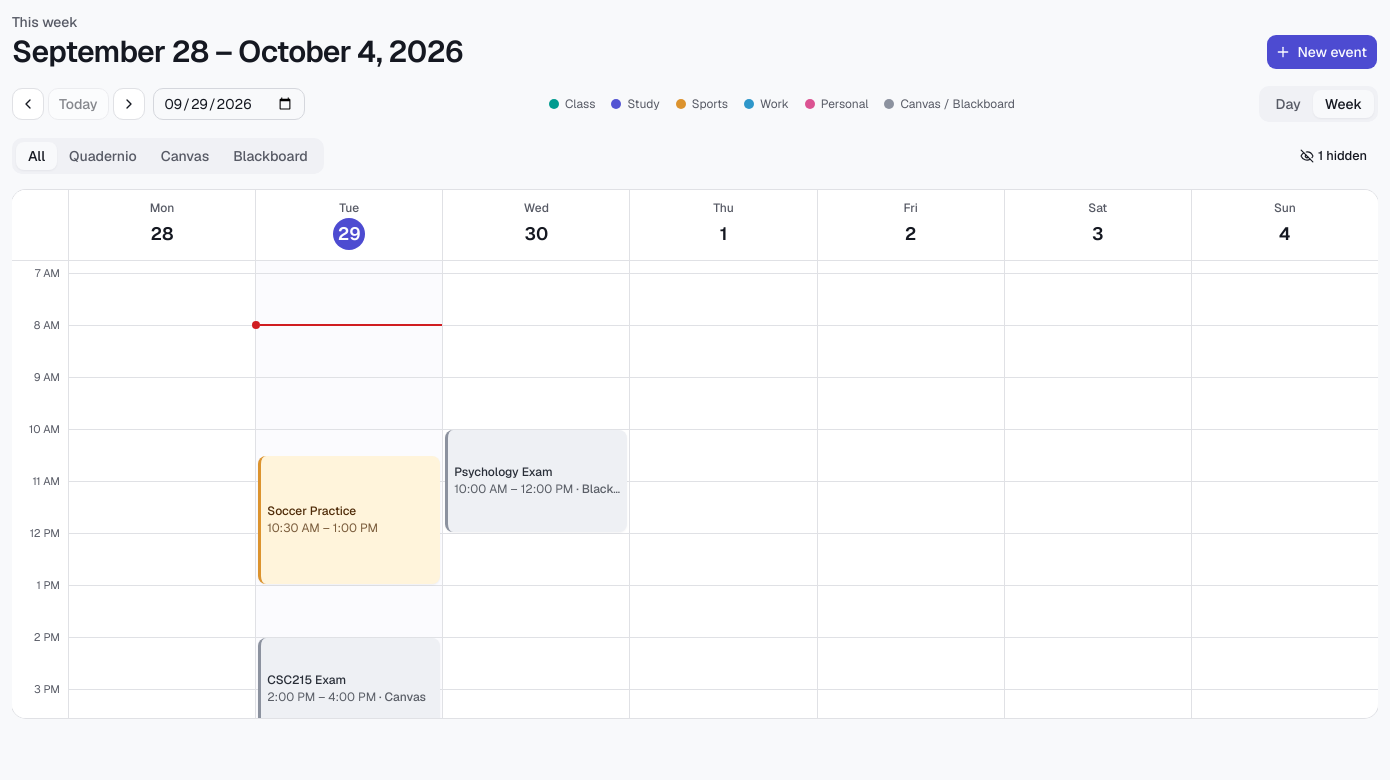
Calendar with external events › filters by source (default All)
The image size is (1390, 780).
(page scrolled)
Click the button "Canvas" at (185, 156), box [149,142,221,170]
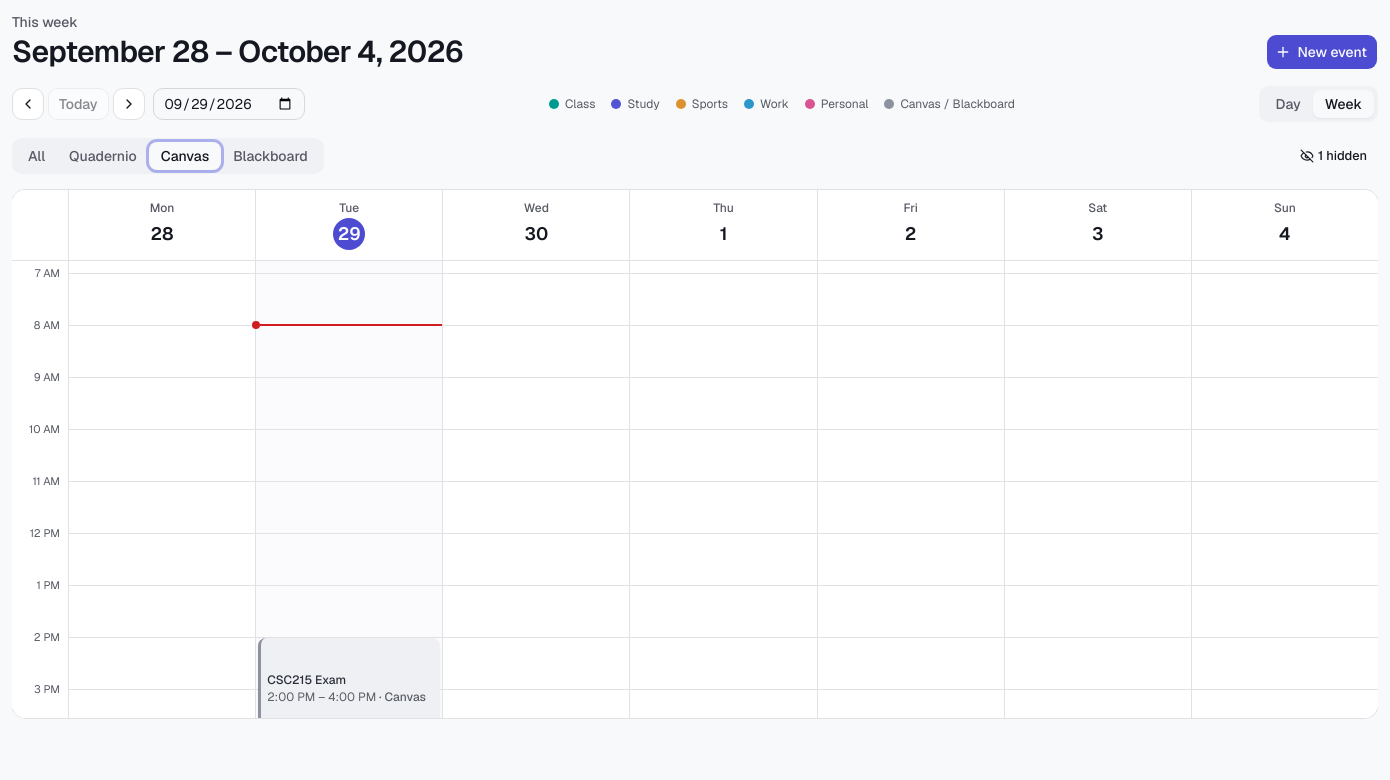
Expected: the button "CSC215 Exam 2:00 PM – 4:00 PM · Canvas" is shown, [258,638,440,718]
Now the button "Soccer Practice" is gone
Now the button "Psychology Exam" is gone
Click the button "Quadernio" at (103, 156), box [57,142,149,170]
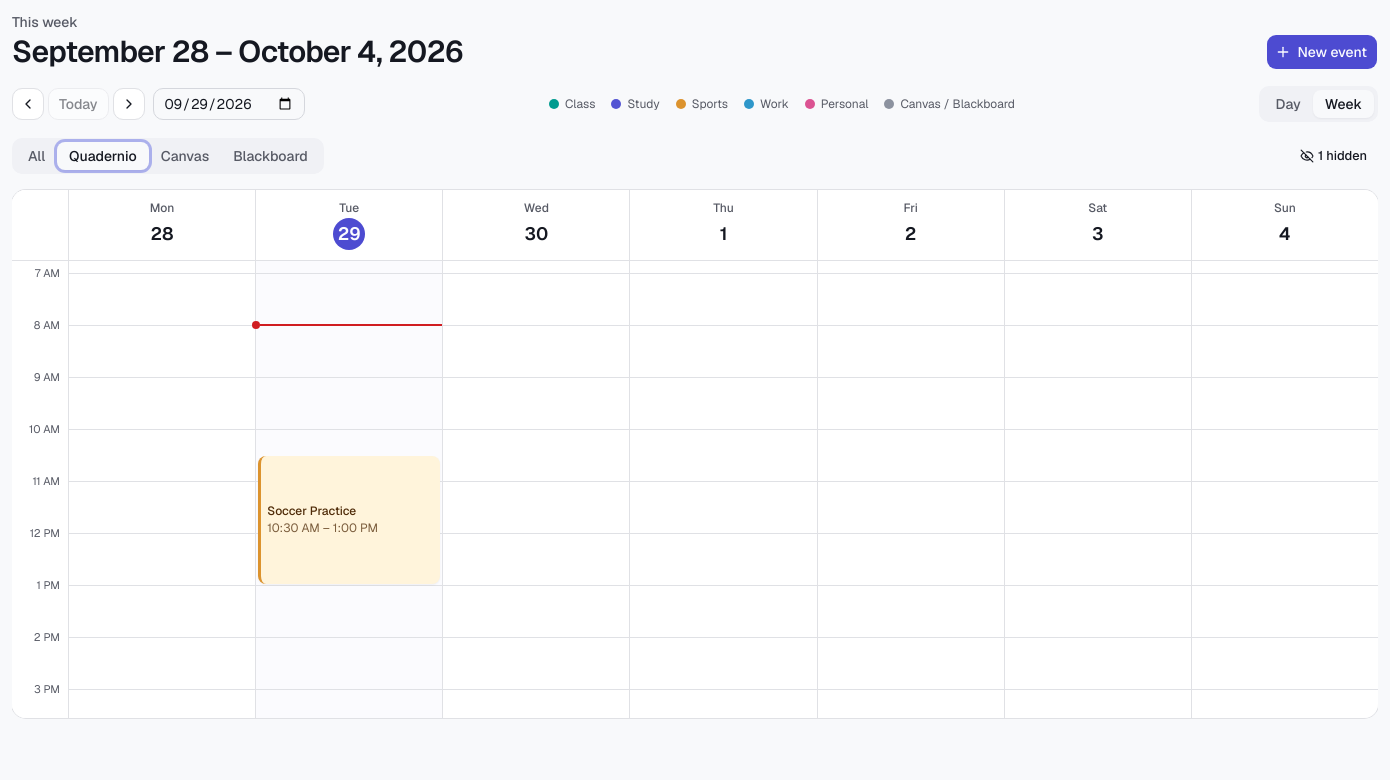
Now the button "Soccer Practice 10:30 AM – 1:00 PM" is shown, box [258,456,440,584]
Now the button "CSC215 Exam" is gone
Click the button "Blackboard" at (271, 156), box [221,142,320,170]
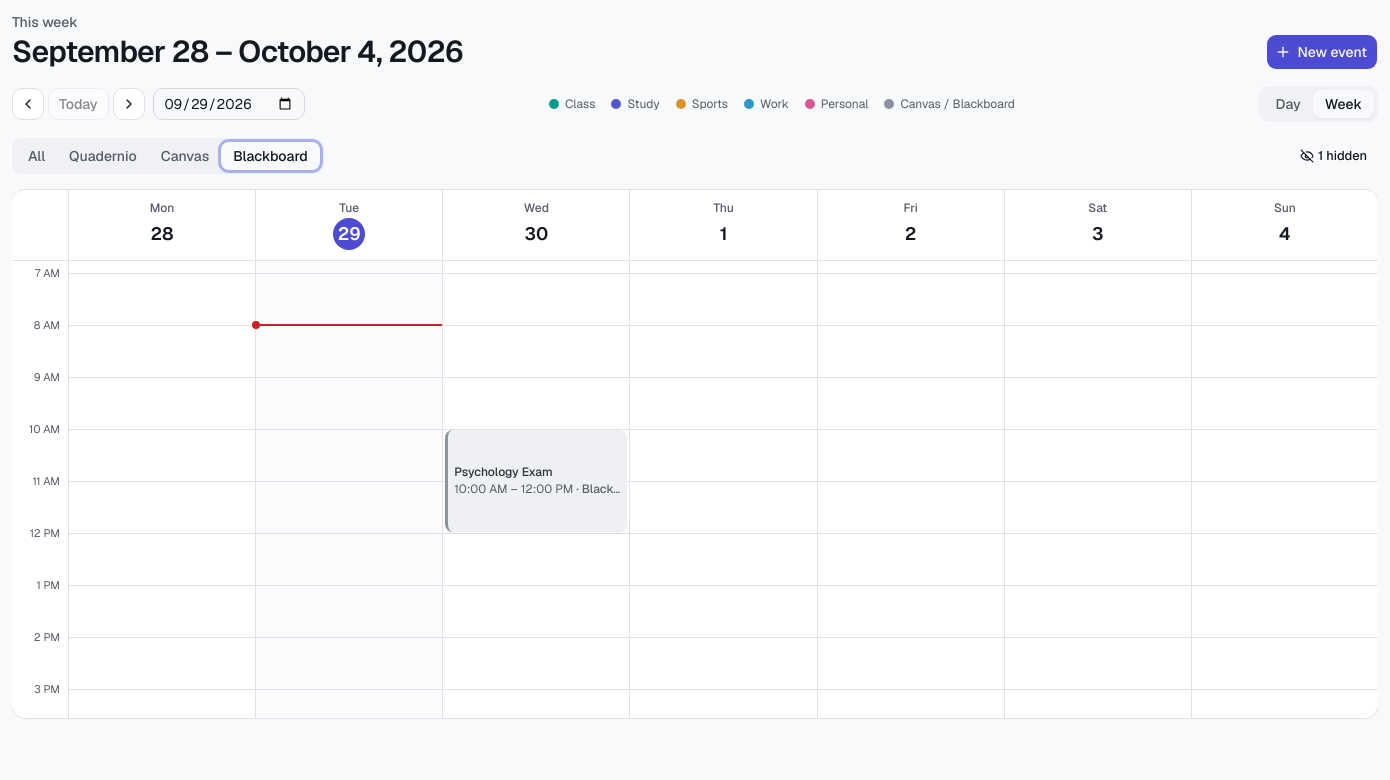
Now the button "Psychology Exam 10:00 AM – 12:00 PM · Blackboard" is shown, box [445,430,627,532]
